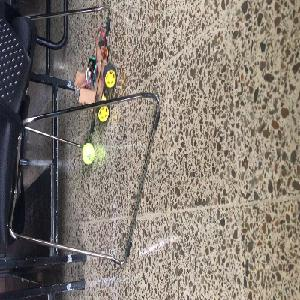Ball: (81, 143, 95, 164)
Robot: (74, 39, 117, 122)
